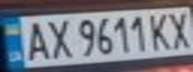1: (127, 11, 151, 52), (112, 14, 133, 54)
6: (93, 15, 115, 56)
9: (72, 15, 96, 57)
A: (18, 18, 54, 62)
K: (145, 10, 175, 51)
X: (42, 16, 72, 61), (163, 8, 193, 50)
